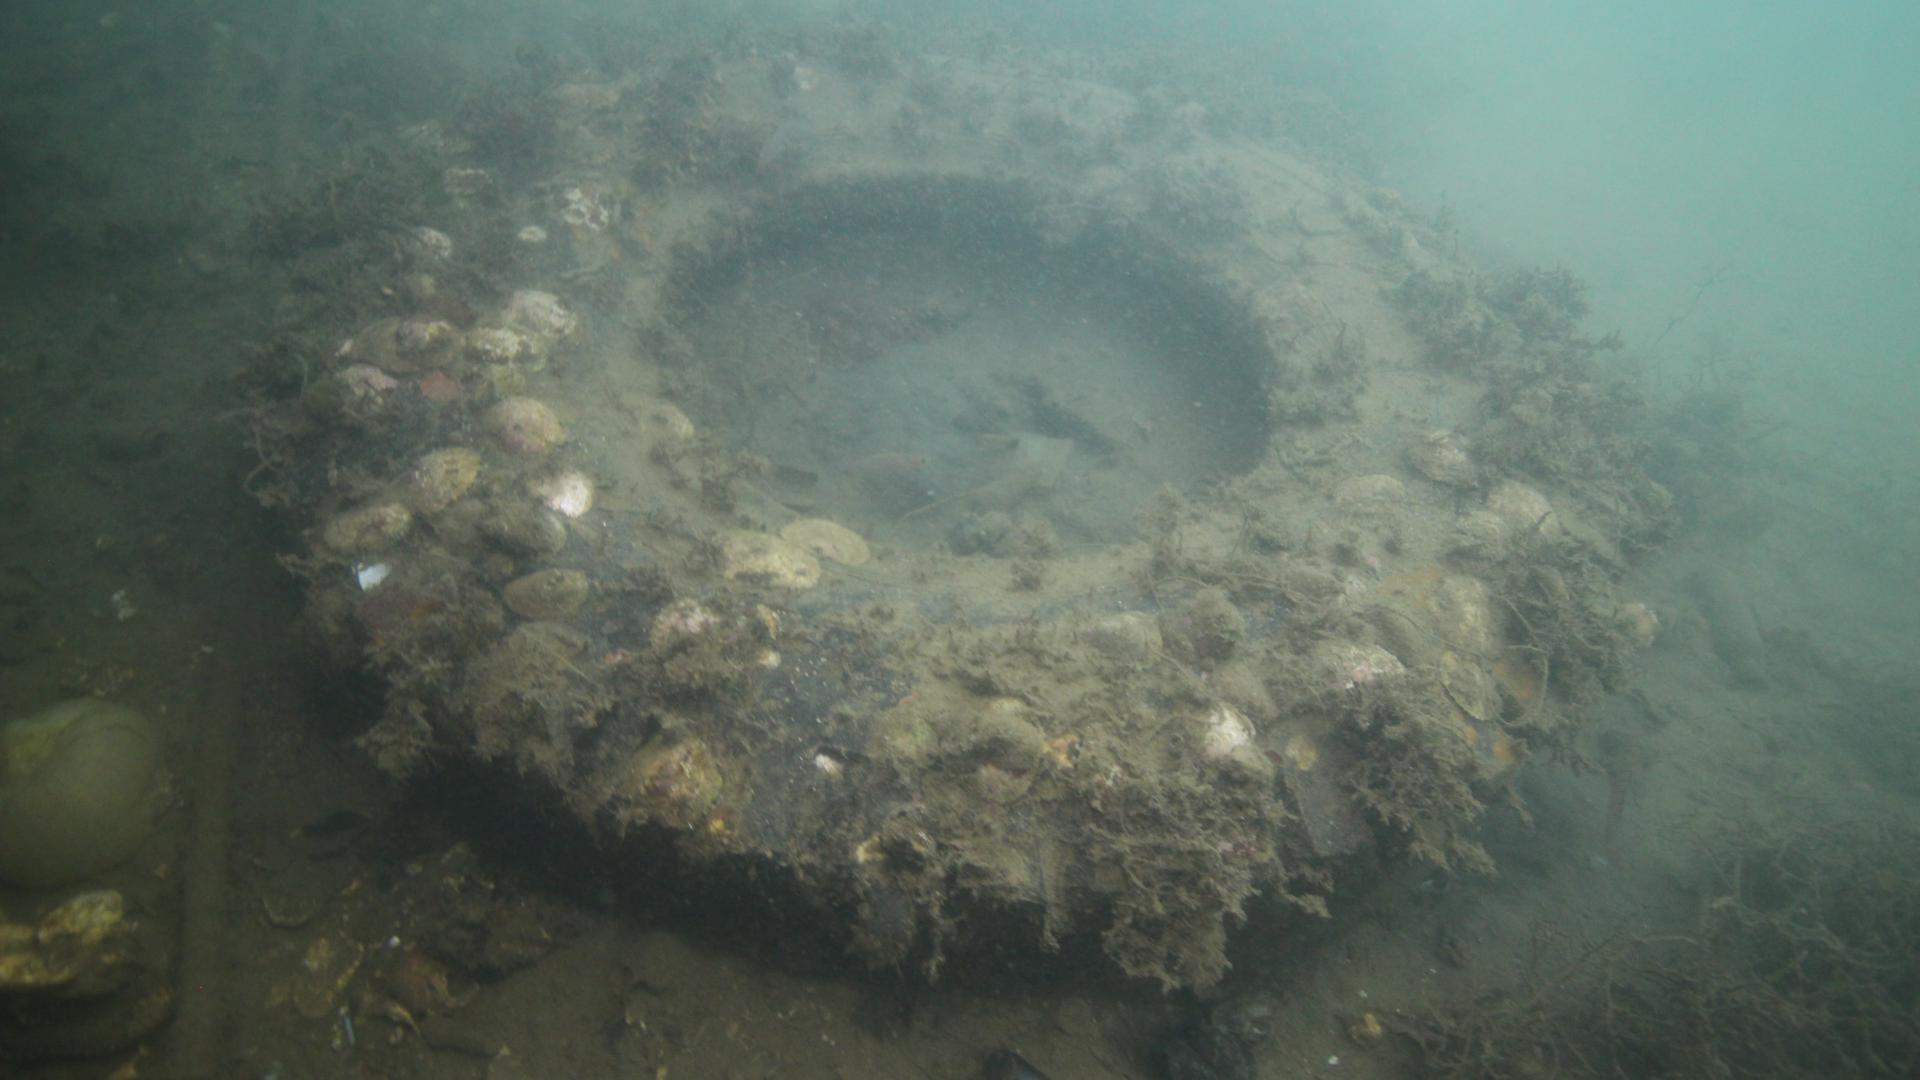tire: (253, 50, 1531, 986)
